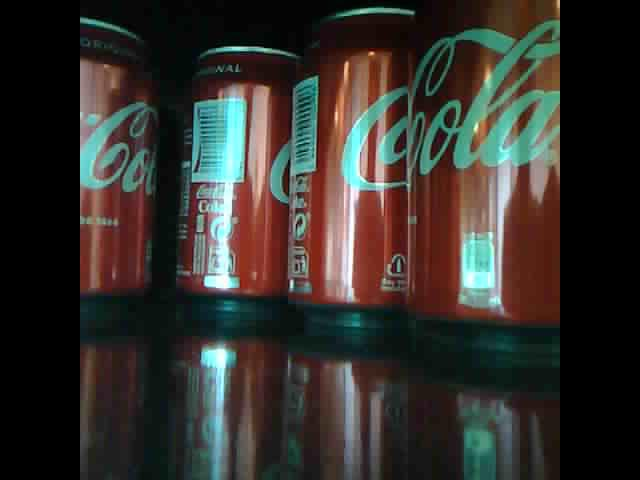coca cola: (408, 4, 560, 338), (285, 6, 416, 326), (172, 43, 306, 322), (80, 13, 159, 323)
